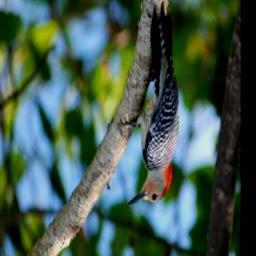Woodpecker: (118, 1, 179, 206)
